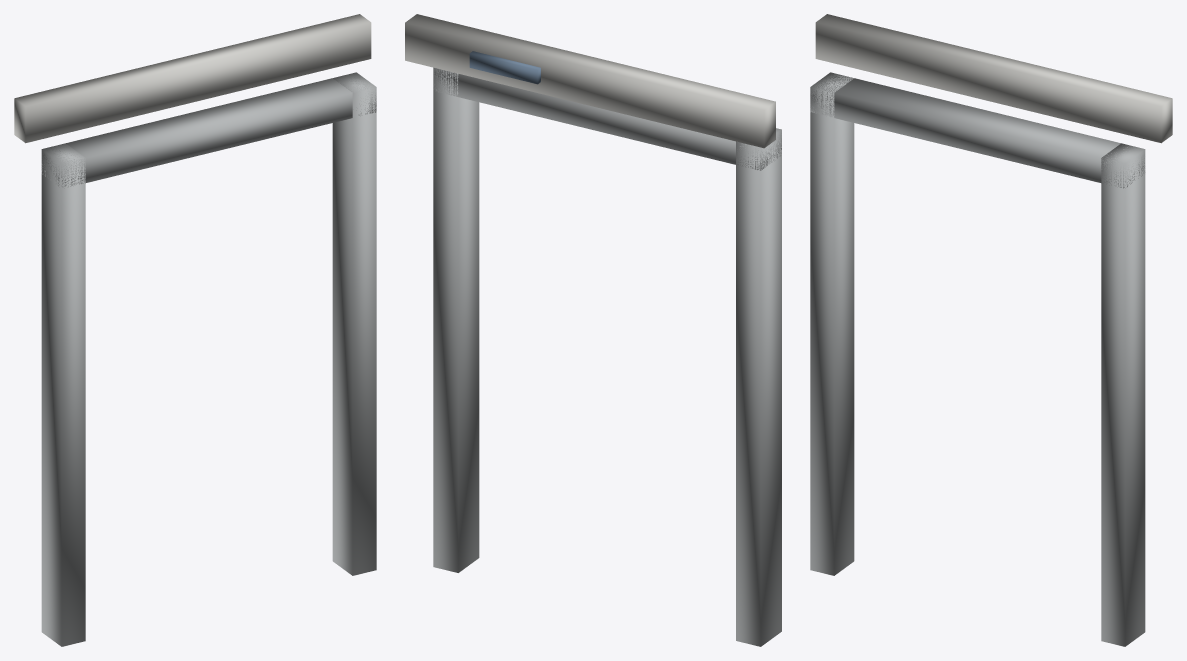
Rendered from doorway_hospital_w122_h200_d16.glb.
3 renders of one model, left to right at view 1: azimuth 30°, elevation 25°; view 2: azimuth 150°, elevation 25°; view 3: azimuth 330°, elevation 25°, orthographic. The views are drawn at different scales.
Visible parts, largest first — view 1: world; view 2: world; view 3: world.
Boxes of the visible parts, x1=… form: world: x1=14, y1=14, x2=376, y2=646; world: x1=405, y1=14, x2=781, y2=646; world: x1=810, y1=14, x2=1172, y2=646.
Size of the model in its own units: 1.58 by 2.31 by 0.28.
